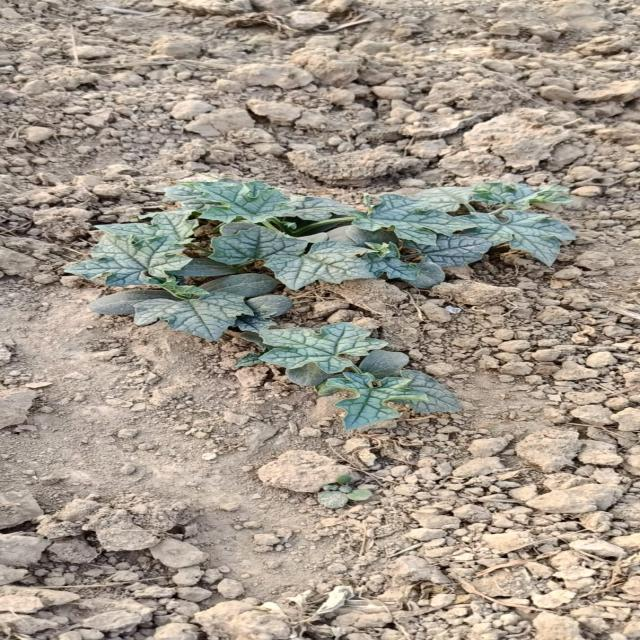plant: (64, 175, 574, 431)
